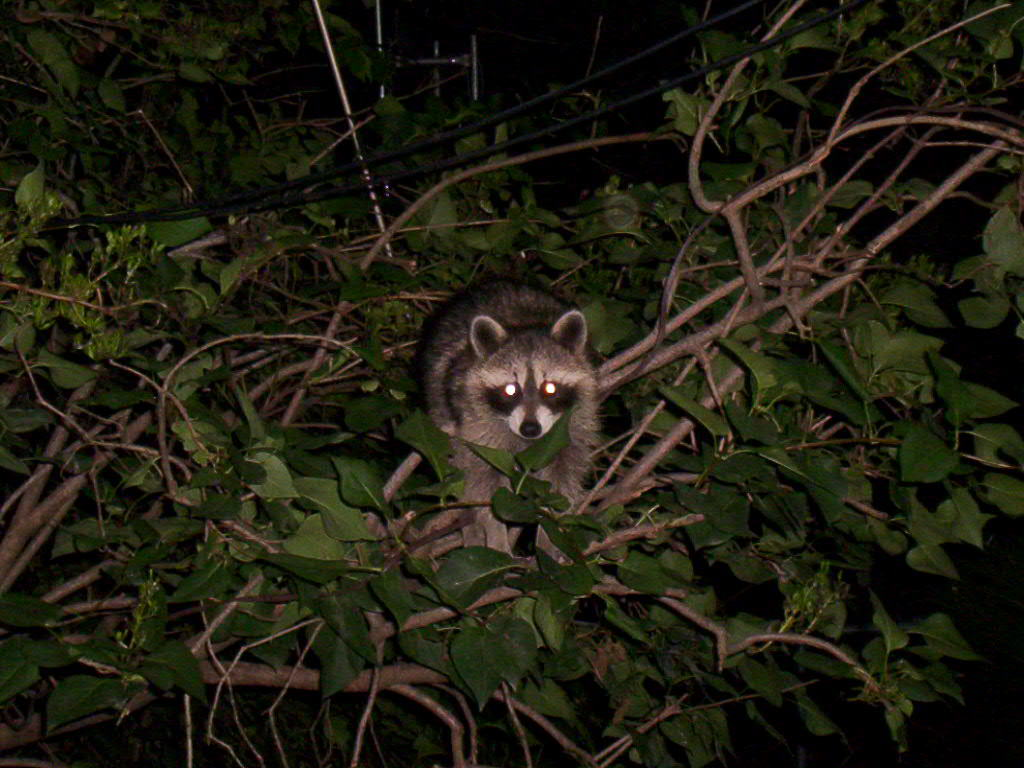raccoon: (416, 277, 600, 502)
